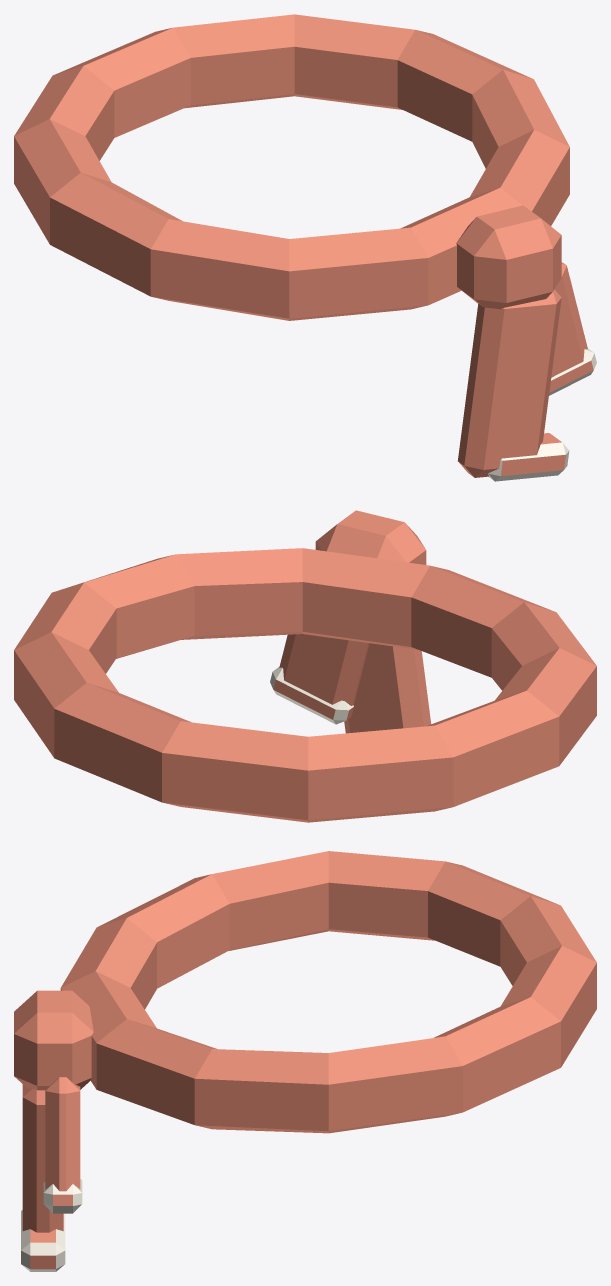
The model's file is scarf.glb.
3 views of the same model, one above another, from view 1: azimuth 30°, elevation 25°; view 2: azimuth 150°, elevation 25°; view 3: azimuth 270°, elevation 25° (orthographic). The views are drawn at different scales.
Parts seen in each view (by area): view 1: Scarf; view 2: Scarf; view 3: Scarf.
Boxes of the visible parts, x1=… form: Scarf: x1=14, y1=14, x2=596, y2=481; Scarf: x1=14, y1=510, x2=596, y2=822; Scarf: x1=14, y1=851, x2=596, y2=1271.
Size of the model in its own units: 0.47 by 0.2572 by 0.5.
